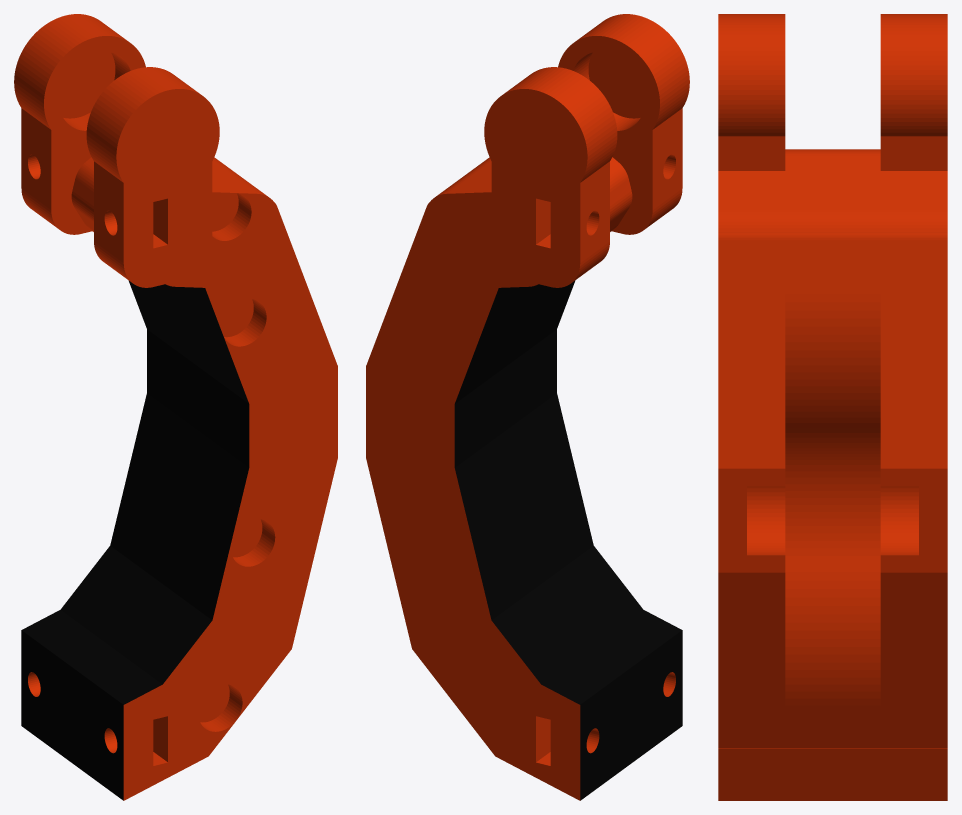
File: 08_RR1_grip.dae
The picture shows the model from 3 angles, left to right: view 1: azimuth 30°, elevation 25°; view 2: azimuth 150°, elevation 25°; view 3: azimuth 270°, elevation 25°; orthographic projection. The views are drawn at different scales.
Parts seen in each view (by area): view 1: RR1-grip-finger; view 2: RR1-grip-finger; view 3: RR1-grip-finger.
Boxes of the visible parts, box(x1,y1,x2,y2) form: RR1-grip-finger: box(14, 14, 337, 800); RR1-grip-finger: box(366, 14, 689, 800); RR1-grip-finger: box(718, 14, 947, 800).
Bounding box in the file's own units: 30 × 24 × 90.58.
